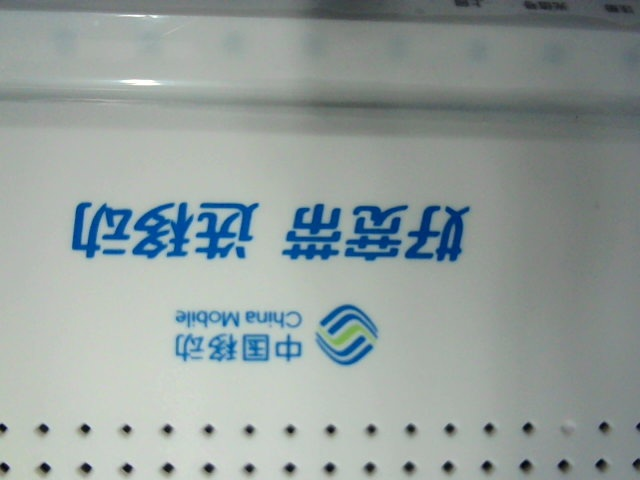AA_ChinaMobile: (58, 194, 476, 369)
